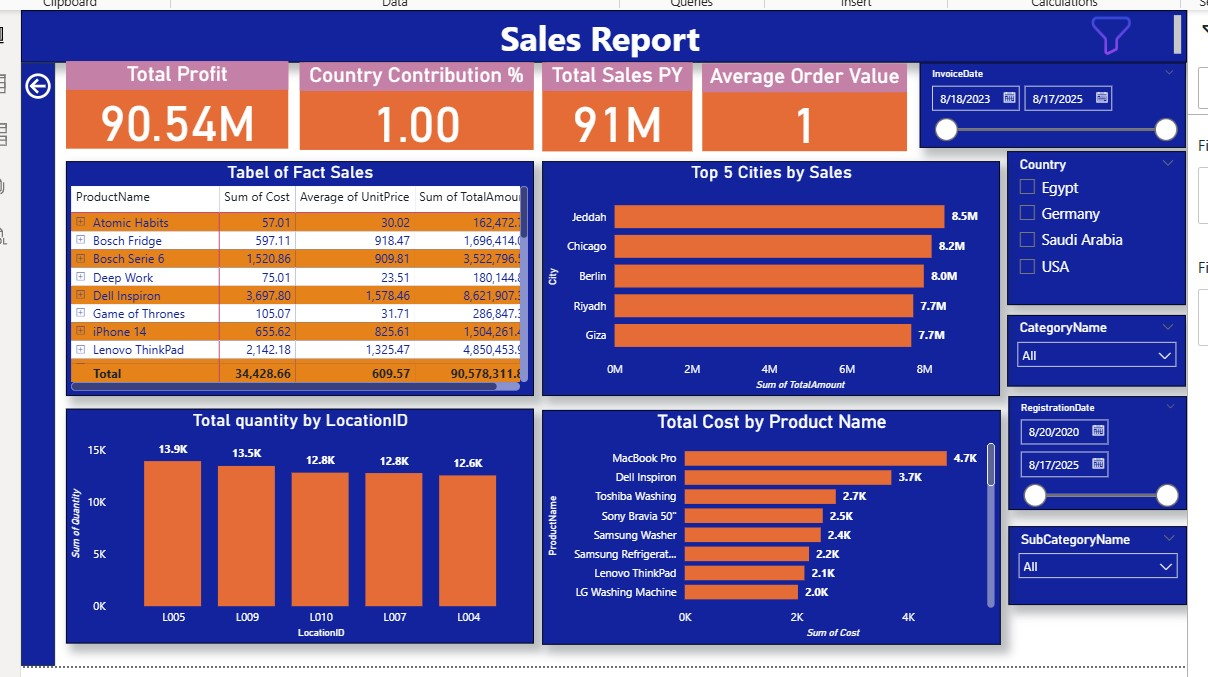

What the dashboard file says about the page in this screenshot:
{"tool":"powerbi","page":{"name":"Product","canvas":[1280,720],"ordinal":2},"visuals":[{"type":"textbox","box":[0,0,1280,57.9],"z":0},{"type":"shape","box":[0,57.7,37.4,662.3],"z":1000},{"type":"actionButton","box":[0,57.9,37.4,51.9],"z":2000},{"type":"image","box":[1112.3,0,167.7,57.9],"z":3000},{"type":"slicer","fields":{"Values":["Fact_Sales.InvoiceDate"]},"box":[986.6,57.6,292.3,93.3],"z":4000},{"type":"slicer","fields":{"Values":["Dim_Country.Country"]},"box":[1082.7,155.1,196.2,168.8],"z":5000},{"type":"slicer","fields":{"Values":["Dim_Category.CategoryName"]},"box":[1082.7,334.8,196.2,78.2],"z":6000},{"type":"slicer","fields":{"Values":["Dim_Customer.RegistrationDate"]},"box":[1084.1,424,196.2,124.9],"z":7000},{"type":"columnChart","title":"Total  sales by Subcategory","fields":{"Category":["Dim_Product.SubCategoryID"],"Y":["Sum(Fact_Sales.TotalAmount)"]},"box":[49.4,437.7,513.2,258],"z":8000},{"type":"card","title":"Product Profitability","fields":{"Values":["_measreses.Product Profitability"]},"box":[318.3,59,243.4,96.5],"z":9000},{"type":"barChart","title":"Top 5 Cities by Sales","fields":{"Category":["Dim_Location.City"],"Y":["Sum(Fact_Sales.TotalAmount)"]},"box":[572.2,166,502.2,258],"z":10000},{"type":"pivotTable","title":"Tabel of Fact Sales","fields":{"Rows":["Dim_Product.ProductName","Dim_Location.City"],"Values":["Sum(Dim_Product.Cost)","Avg(Fact_Sales.UnitPrice)","Sum(Fact_Sales.TotalAmount)"]},"box":[49.4,166,513.2,258],"z":11000},{"type":"slicer","fields":{"Values":["Dim_SubCategory.SubCategoryName"]},"box":[1084.1,566.7,196.2,86.4],"z":12000},{"type":"card","title":"No of Products","fields":{"Values":["_measreses.no of product"]},"box":[49,57.6,257.8,96.5],"z":13000},{"type":"barChart","title":"Total Cost by Product Name","fields":{"Category":["Dim_Product.ProductName"],"Y":["Sum(Dim_Product.Cost)"]},"box":[571.9,439.7,502.9,257.2],"z":14000},{"type":"card","title":"No of SubCategory","fields":{"Values":["_measreses.No of Subcat"]},"box":[766.2,59,205.9,96.5],"z":15000},{"type":"card","title":"Total Revenue","fields":{"Values":["_measreses.Total Revenue"]},"box":[571.7,59,184.3,96.5],"z":16000}]}

Visuals, with their boxes on the page's 1280x720 design canvas (x1, y1, x2, y2). These are canvas units, not pixel positions in the 1208x677 screenshot, which may show the page scaled, cropped or inside an application window:
textbox: bbox(0, 0, 1280, 58)
shape: bbox(0, 58, 37, 720)
actionButton: bbox(0, 58, 37, 110)
image: bbox(1112, 0, 1280, 58)
slicer - Fact_Sales.InvoiceDate: bbox(987, 58, 1279, 151)
slicer - Dim_Country.Country: bbox(1083, 155, 1279, 324)
slicer - Dim_Category.CategoryName: bbox(1083, 335, 1279, 413)
slicer - Dim_Customer.RegistrationDate: bbox(1084, 424, 1280, 549)
"Total  sales by Subcategory" columnChart: bbox(49, 438, 563, 696)
"Product Profitability" card: bbox(318, 59, 562, 156)
"Top 5 Cities by Sales" barChart: bbox(572, 166, 1074, 424)
"Tabel of Fact Sales" pivotTable: bbox(49, 166, 563, 424)
slicer - Dim_SubCategory.SubCategoryName: bbox(1084, 567, 1280, 653)
"No of Products" card: bbox(49, 58, 307, 154)
"Total Cost by Product Name" barChart: bbox(572, 440, 1075, 697)
"No of SubCategory" card: bbox(766, 59, 972, 156)
"Total Revenue" card: bbox(572, 59, 756, 156)
